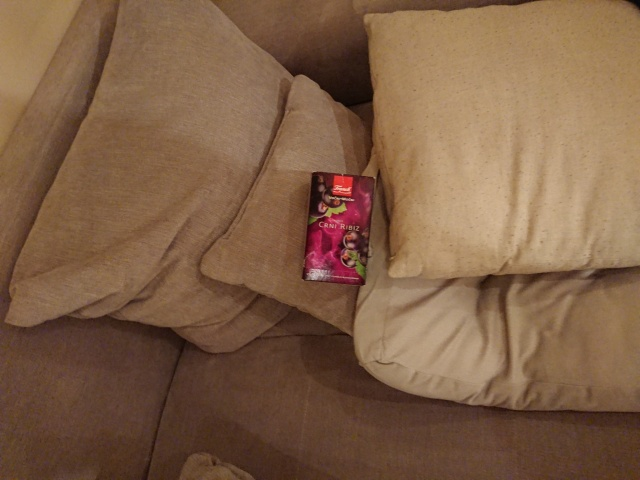Franck Black Currant Tea 60g: (299, 169, 379, 288)
